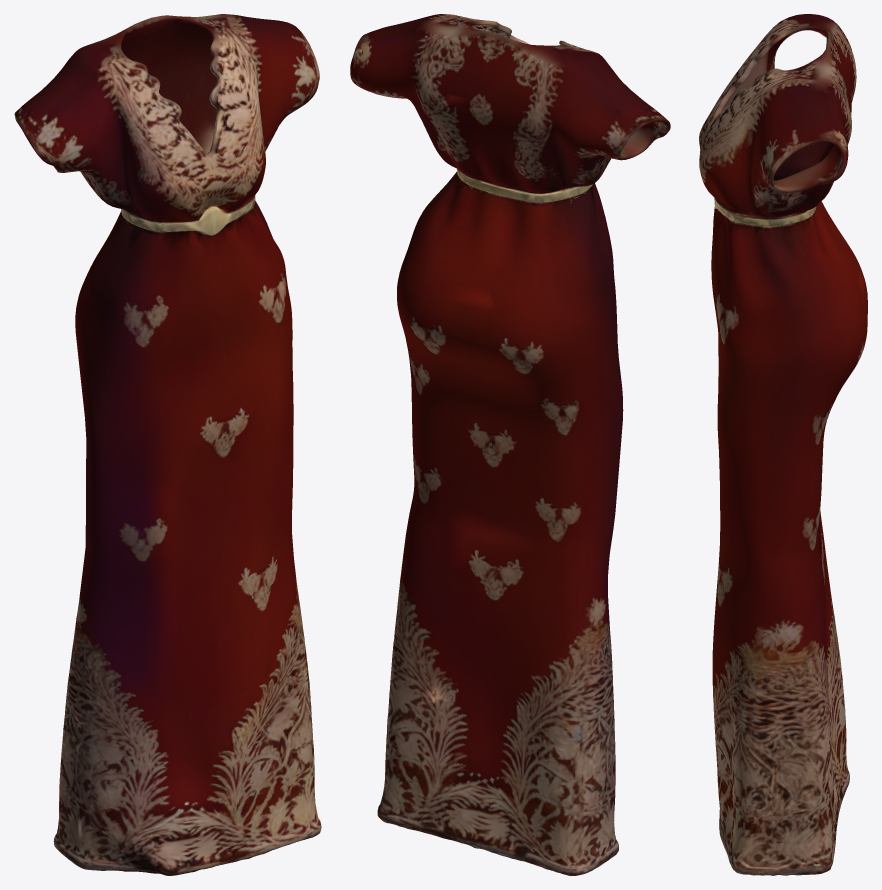
The picture shows the model from 3 angles, left to right: view 1: azimuth 30°, elevation 25°; view 2: azimuth 150°, elevation 25°; view 3: azimuth 270°, elevation 25°; orthographic projection. The views are drawn at different scales.
Visible parts, largest first — view 1: fabric_caftan; view 2: fabric_caftan; view 3: fabric_caftan.
Part boxes in pixels (x1,y1,x2,y2): fabric_caftan: (14,14,321,875); fabric_caftan: (350,14,670,875); fabric_caftan: (699,14,867,875).
Bounding box in the file's own units: 0.4232 × 1.14 × 0.2237.
Materials: 1 (1 with a texture image).
